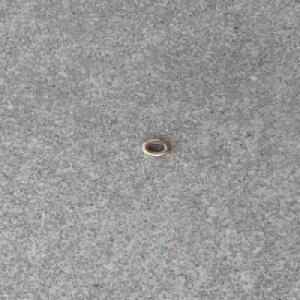Nut: (140, 138, 171, 157)
